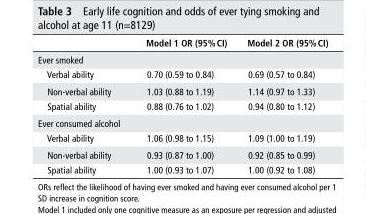table: (37, 36, 327, 174)
table column: (127, 36, 236, 174), (236, 36, 327, 174), (37, 36, 127, 174)
table column header: (37, 36, 327, 50)
table projected row header: (37, 50, 327, 66), (37, 114, 327, 130)
table row: (37, 50, 327, 66), (37, 66, 327, 82), (37, 82, 327, 98), (37, 98, 327, 114), (37, 114, 327, 130), (37, 130, 327, 146), (37, 146, 327, 161), (37, 36, 327, 50), (37, 161, 327, 174)
